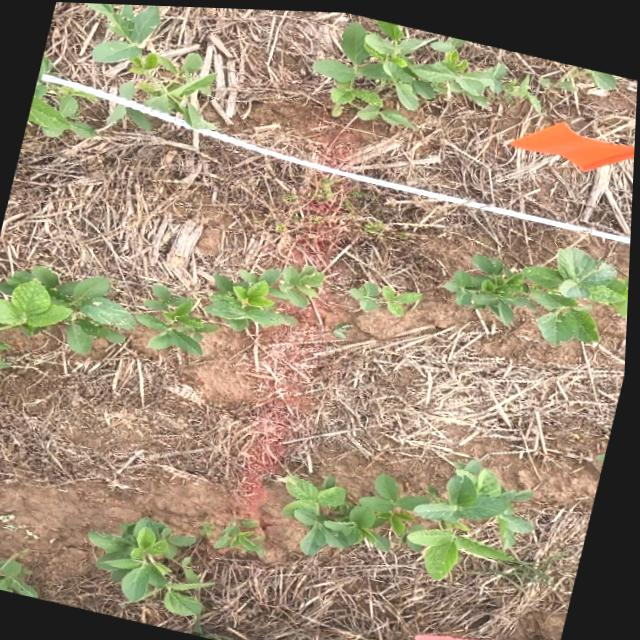grassy_weed: (500, 555, 559, 590)
soy_plant: (289, 457, 535, 574), (314, 16, 539, 125), (0, 265, 219, 367), (449, 242, 631, 340), (87, 3, 217, 127), (94, 516, 215, 615), (207, 262, 327, 328), (486, 202, 633, 238), (30, 56, 96, 136), (540, 60, 617, 90), (354, 279, 423, 312), (220, 518, 271, 552), (0, 557, 44, 596), (108, 102, 153, 128)
